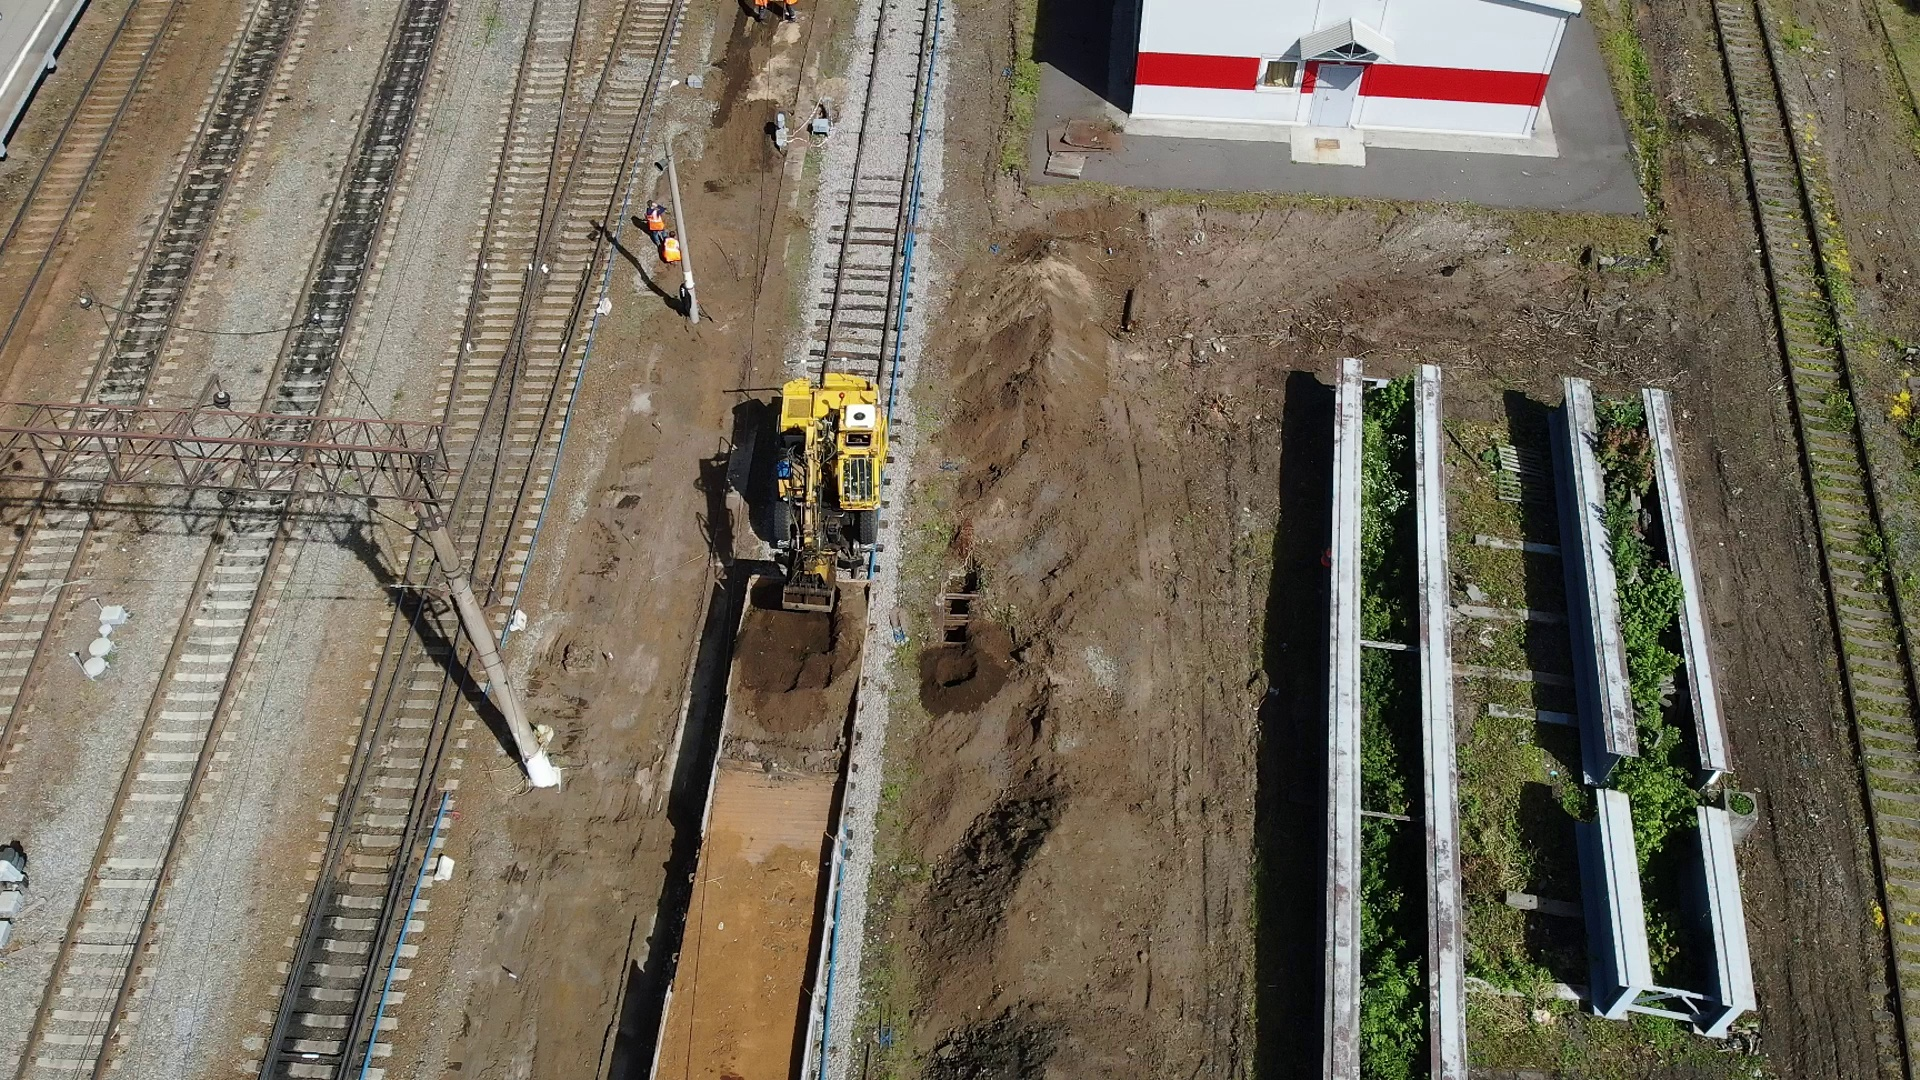kjtv: (768, 369, 880, 545)
